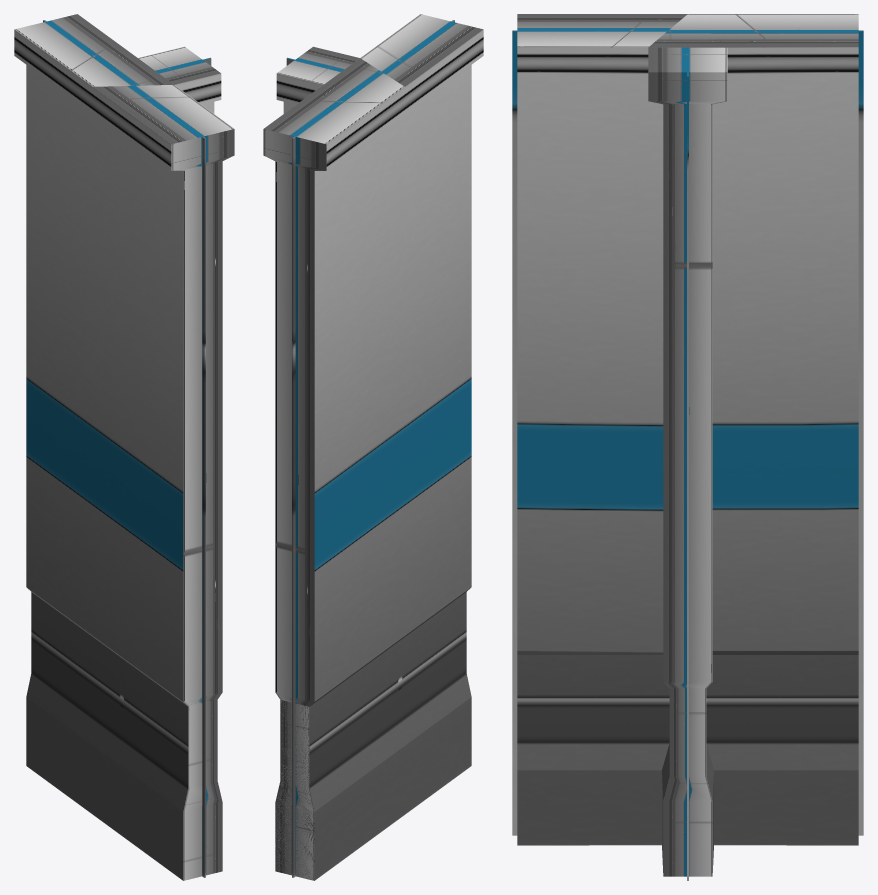
Rendered from TPC_SSU_SM_BB.fbx.
The picture shows the model from 3 angles, left to right: view 1: azimuth 30°, elevation 25°; view 2: azimuth 150°, elevation 25°; view 3: azimuth 270°, elevation 25°; orthographic projection. The views are drawn at different scales.
Visible parts, largest first — view 1: TPC_SSU_SM_BB; view 2: TPC_SSU_SM_BB; view 3: TPC_SSU_SM_BB.
Part boxes in pixels (x1,y1,x2,y2): TPC_SSU_SM_BB: (14, 14, 234, 880); TPC_SSU_SM_BB: (263, 14, 483, 880); TPC_SSU_SM_BB: (512, 14, 863, 880).
Size of the model in its own units: 0.751 by 4.5 by 1.78.
